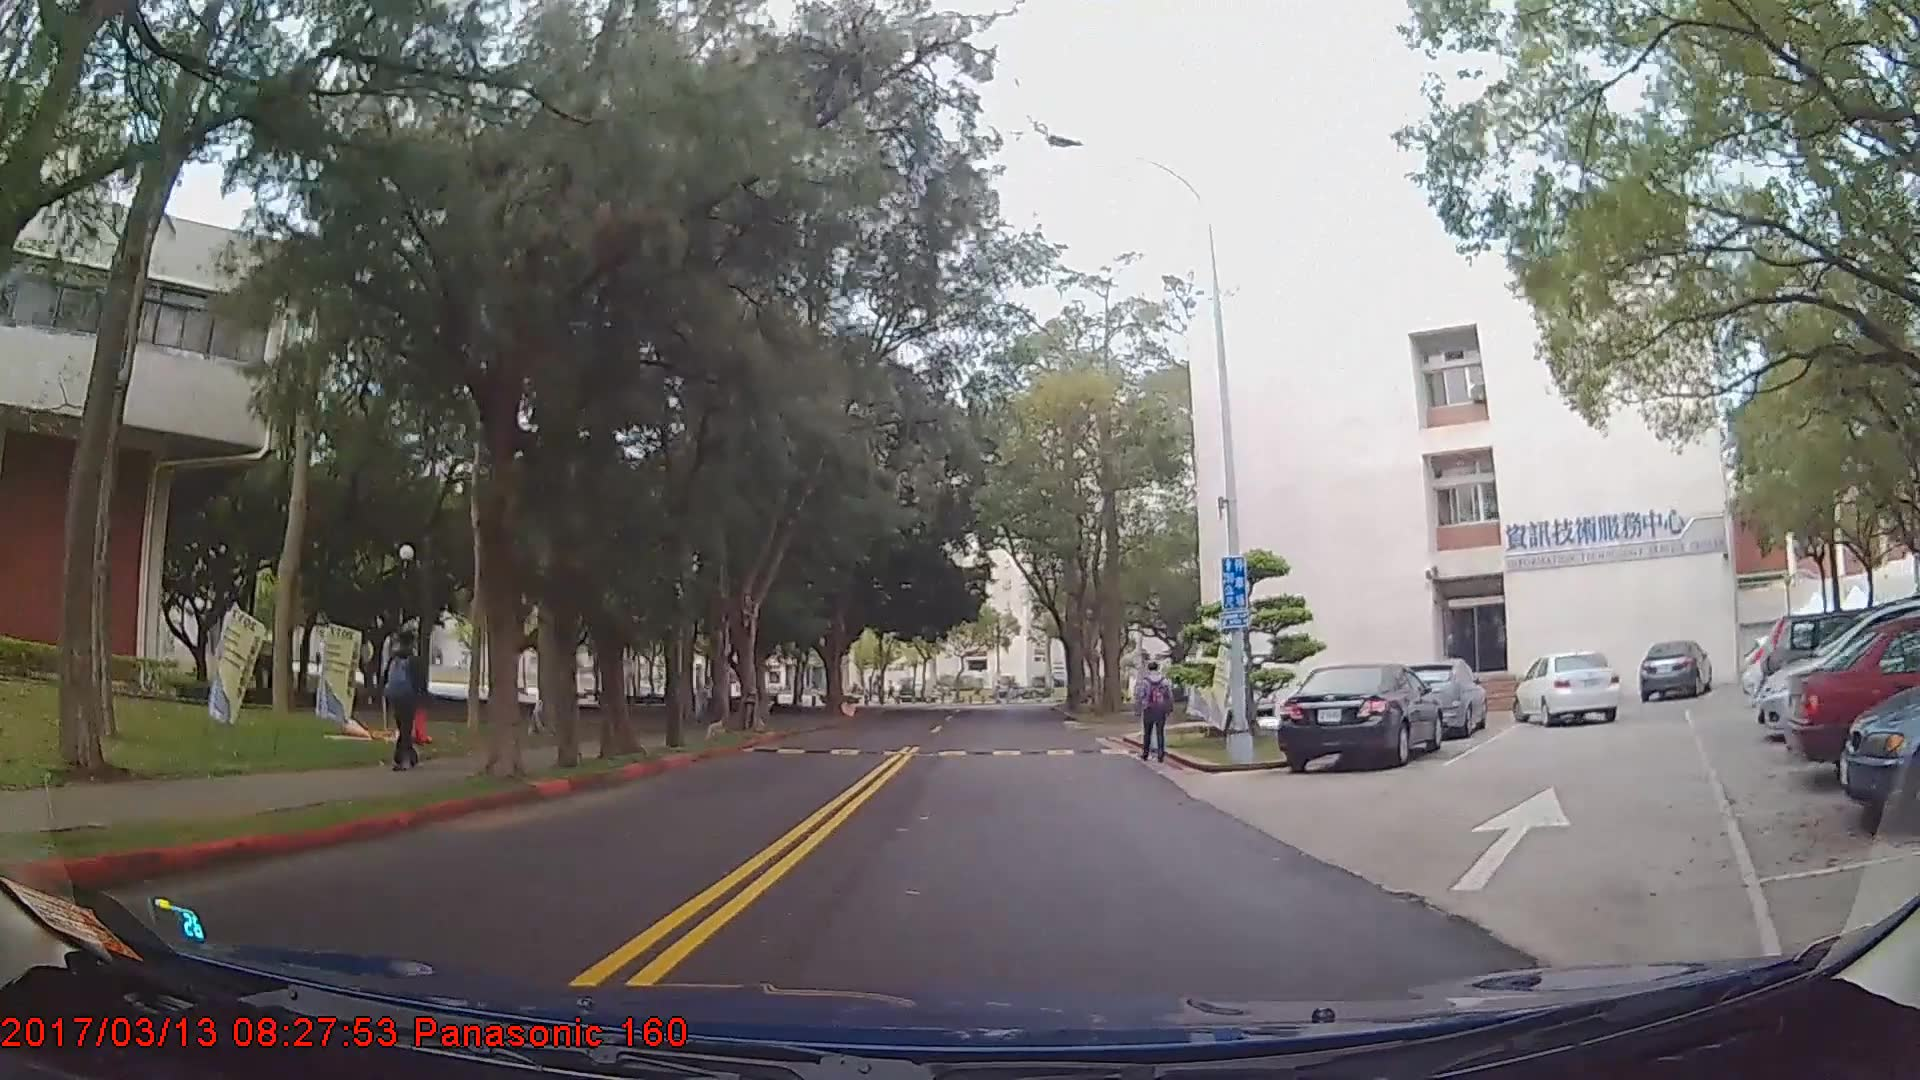pedestrian: (381, 637, 432, 781), (1140, 661, 1179, 771)
vehicle: (1783, 611, 1920, 790), (1276, 662, 1441, 773), (1390, 655, 1490, 737), (1513, 651, 1621, 727), (1638, 636, 1713, 700)
